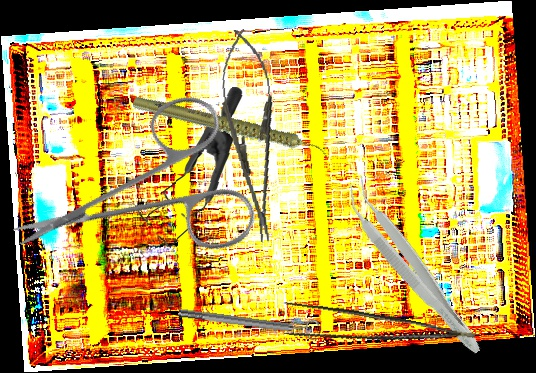Fixation Ring: (177, 300, 320, 343)
Handpiece: (130, 58, 331, 200)
Iris Scissors: (8, 50, 293, 333)
Needle Holder: (213, 26, 290, 246)
Speculum: (131, 87, 249, 249)
Tissue Forceps: (334, 174, 495, 361), (275, 295, 476, 370)
